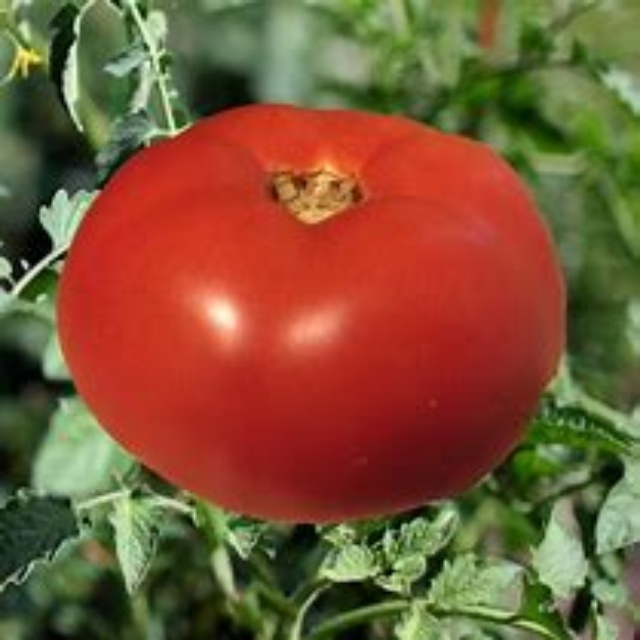tomato: (52, 98, 566, 535)
